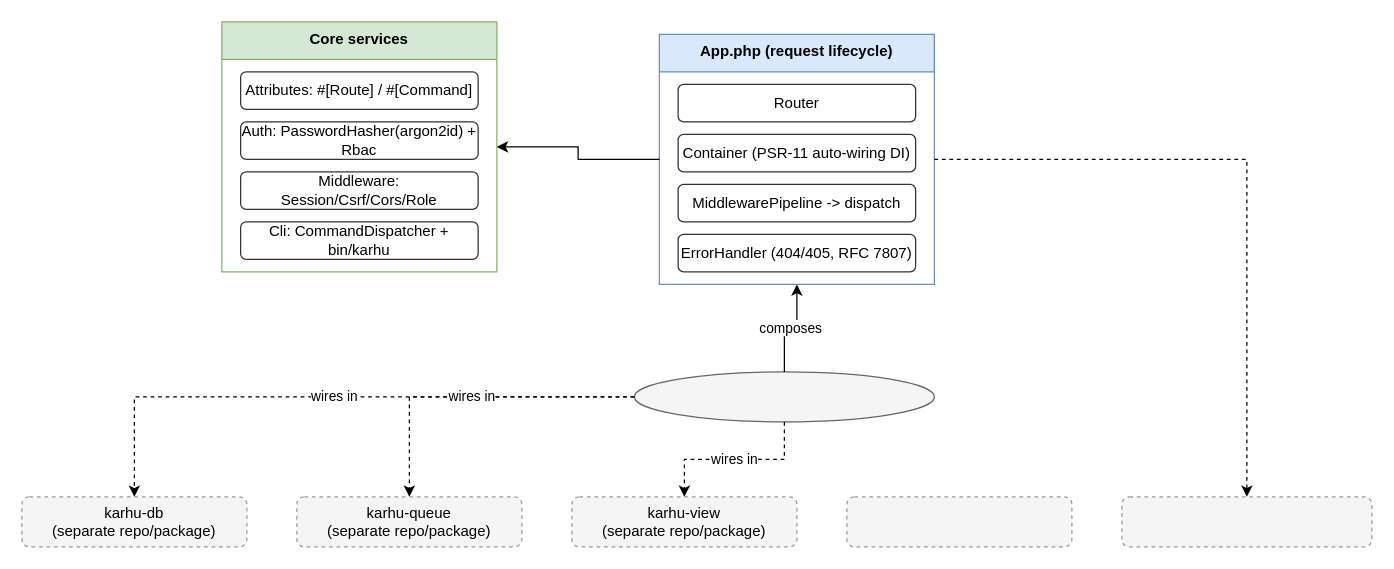
Some shapes in this 1394 by 569 pixel diagram are drawn without their labels. The shapes that lost their labels are listed below. From the top down, each one's centre as x and y in pixels, then its label:
point 783,396: Consuming app (e.g. mishka)
point 959,521: karhu-skeleton (starter template)
point 1246,521: composer docs-check (MkDocs + reflection gate)
